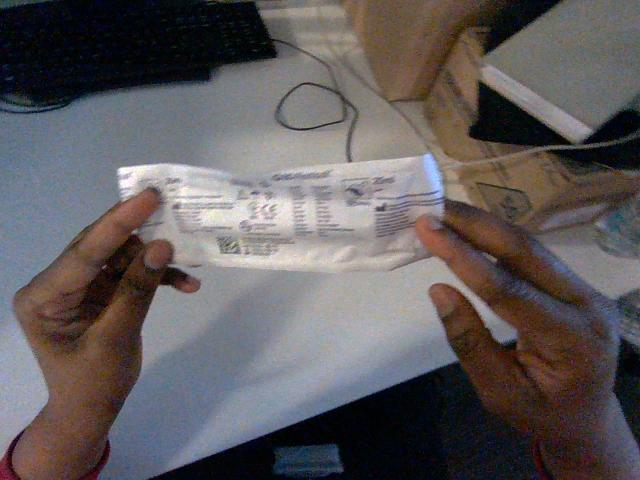syringe: (118, 154, 443, 271)
